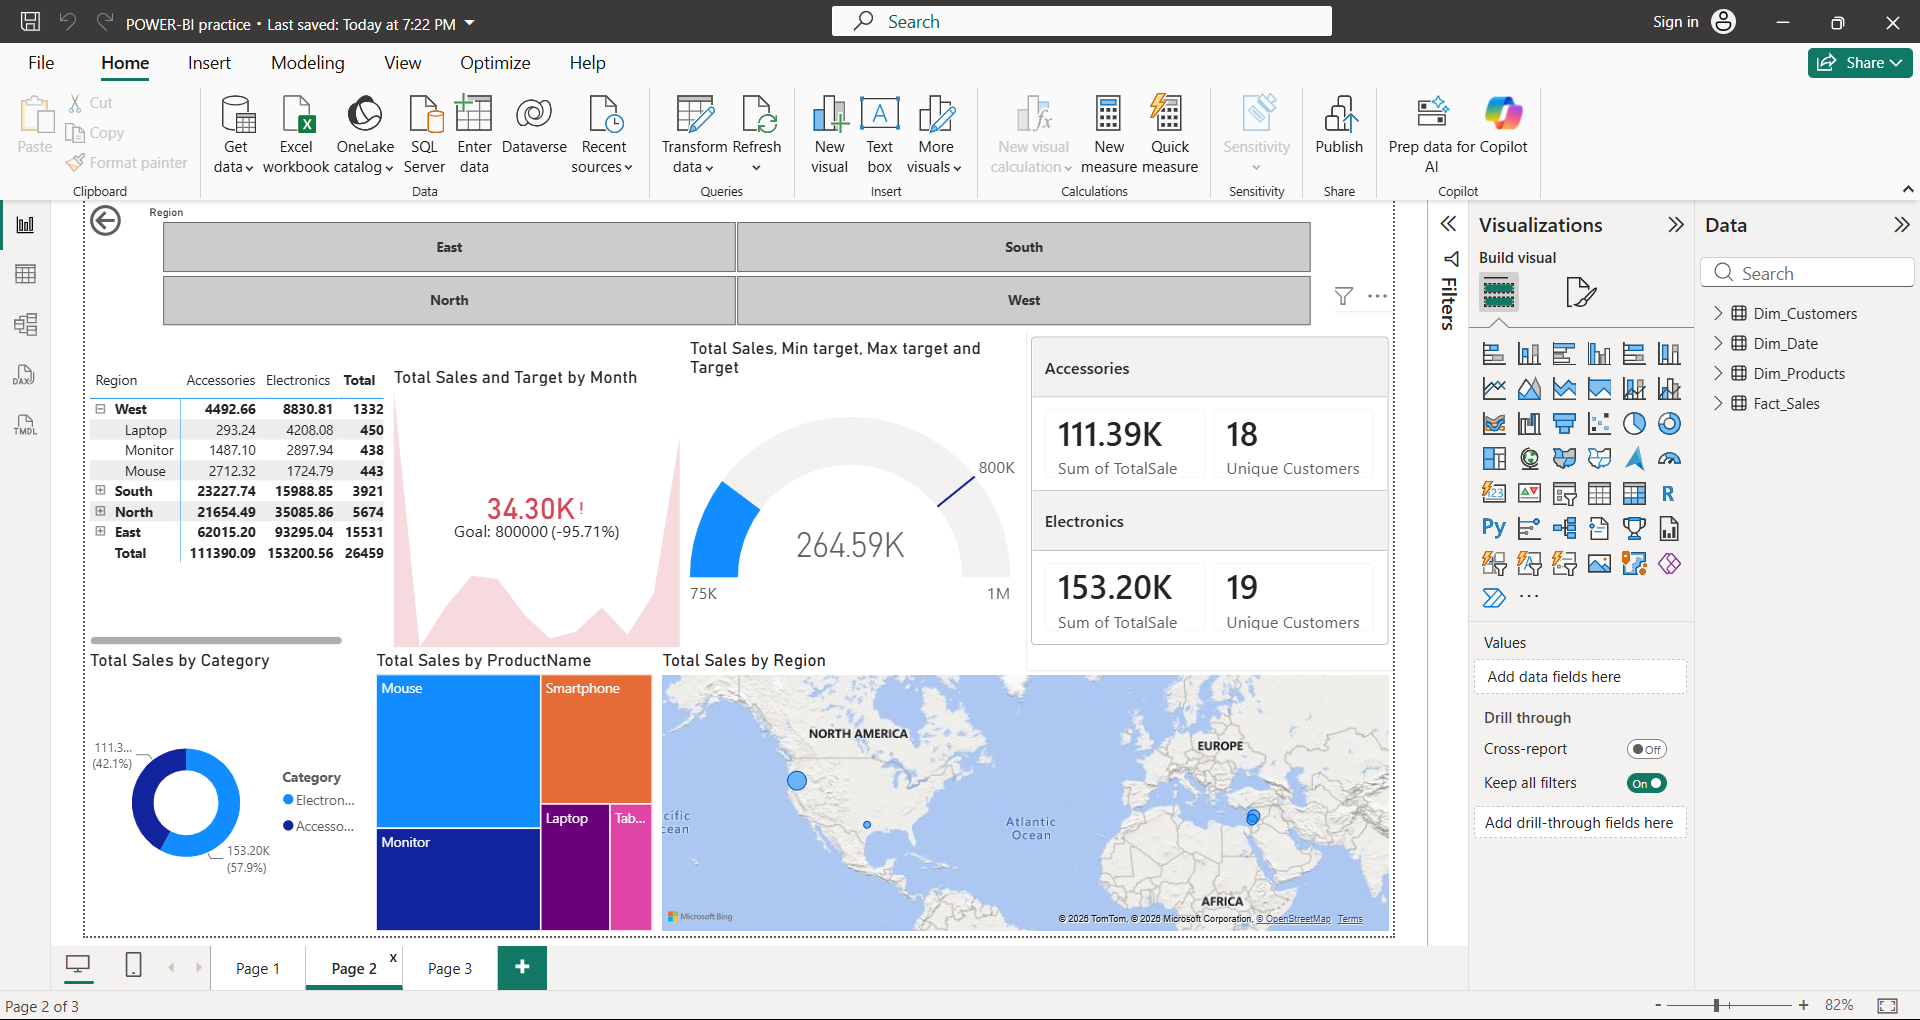

The dashboard page shown, as its layout file describes it:
{"tool":"powerbi","page":{"name":"Page 2","canvas":[1280,720],"ordinal":1},"visuals":[{"type":"donutChart","fields":{"Y":["Fact_Sales.Total Sales"],"Category":["Dim_Products.Category"]},"box":[0,440.2,280,280],"z":0},{"type":"treemap","fields":{"Group":["Fact_Sales.ProductName"],"Values":["Fact_Sales.Total Sales"]},"box":[280,440.2,280,280],"z":1000},{"type":"map","fields":{"Category":["Dim_Customers.Region"],"Size":["Fact_Sales.Total Sales"]},"box":[560.1,440.2,720.2,280],"z":2000},{"type":"kpi","fields":{"Indicator":["Fact_Sales.Total Sales"],"Goal":["Fact_Sales.Target"],"TrendLine":["Dim_Date.Month"]},"box":[297.1,162.6,289.8,280],"z":3000},{"type":"cardVisual","fields":{"Rows":["Dim_Products.Category"],"Data":["Sum(Fact_Sales.TotalSale)","Fact_Sales.Unique Customers"]},"box":[920.8,108.8,359.5,352.2],"z":4000},{"type":"gauge","fields":{"Y":["Fact_Sales.Total Sales"],"MinValue":["Fact_Sales.Min target"],"MaxValue":["Fact_Sales.Max target"],"TargetValue":["Fact_Sales.Target"]},"box":[587,134.5,333.8,305.7],"z":5000},{"type":"pivotTable","fields":{"Rows":["Dim_Customers.Region","Dim_Products.ProductName"],"Values":["Fact_Sales.Total Sales"],"Columns":["Dim_Products.Category"]},"box":[0,160.2,297.1,280],"z":6000},{"type":"slicer","fields":{"Values":["Dim_Customers.Region"]},"box":[50.1,0,1172.7,129.6],"z":7000},{"type":"actionButton","box":[0,0,100,40],"z":7001}]}

Visuals, with their boxes on the page's 1280x720 design canvas (x1, y1, x2, y2). These are canvas units, not pixel positions in the 1920x1020 screenshot, which may show the page scaled, cropped or inside an application window:
donutChart - Fact_Sales.Total Sales x Dim_Products.Category: BBox(0, 440, 280, 720)
treemap - Fact_Sales.ProductName x Fact_Sales.Total Sales: BBox(280, 440, 560, 720)
map - Dim_Customers.Region x Fact_Sales.Total Sales: BBox(560, 440, 1280, 720)
kpi - Fact_Sales.Total Sales x Fact_Sales.Target: BBox(297, 163, 587, 443)
cardVisual - Dim_Products.Category x Sum(Fact_Sales.TotalSale): BBox(921, 109, 1280, 461)
gauge - Fact_Sales.Total Sales x Fact_Sales.Min target: BBox(587, 134, 921, 440)
pivotTable - Dim_Customers.Region x Dim_Products.ProductName: BBox(0, 160, 297, 440)
slicer - Dim_Customers.Region: BBox(50, 0, 1223, 130)
actionButton: BBox(0, 0, 100, 40)
